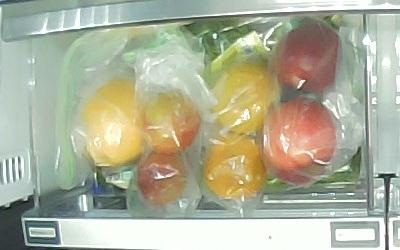apple_vinyl: (261, 98, 342, 184), (274, 23, 343, 92)
grapefruit_vinyl: (82, 76, 145, 166)
persimmon_vinyl: (214, 62, 282, 134), (204, 135, 269, 199)
prune_vinyl: (140, 89, 201, 154), (136, 152, 191, 206)
